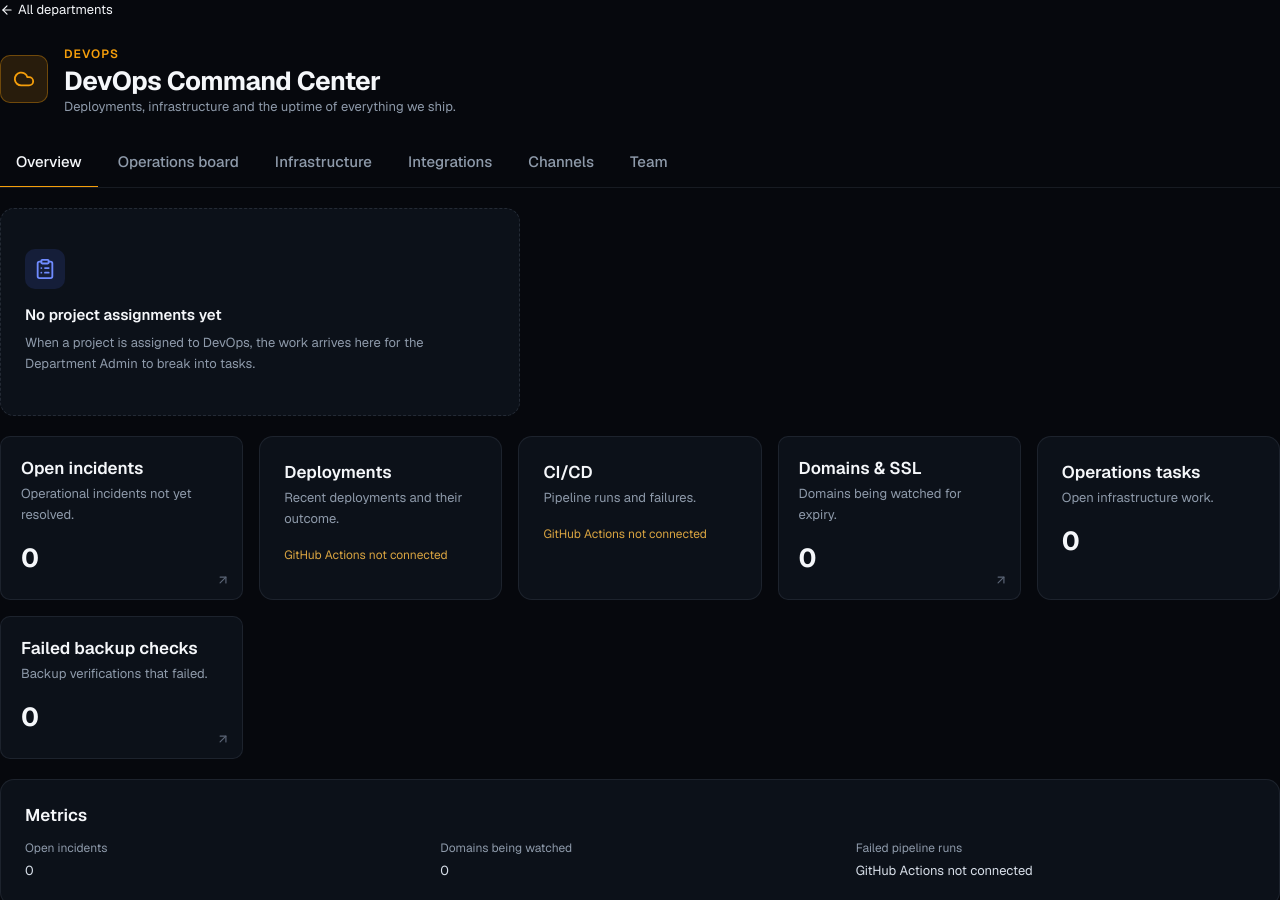
Test case: Department environment: new capabilities › says plainly when no channels exist yet instead of inventing them
Click the tab "Channels". click: (561, 163)
box: top-left (512, 138), bottom-right (610, 188)
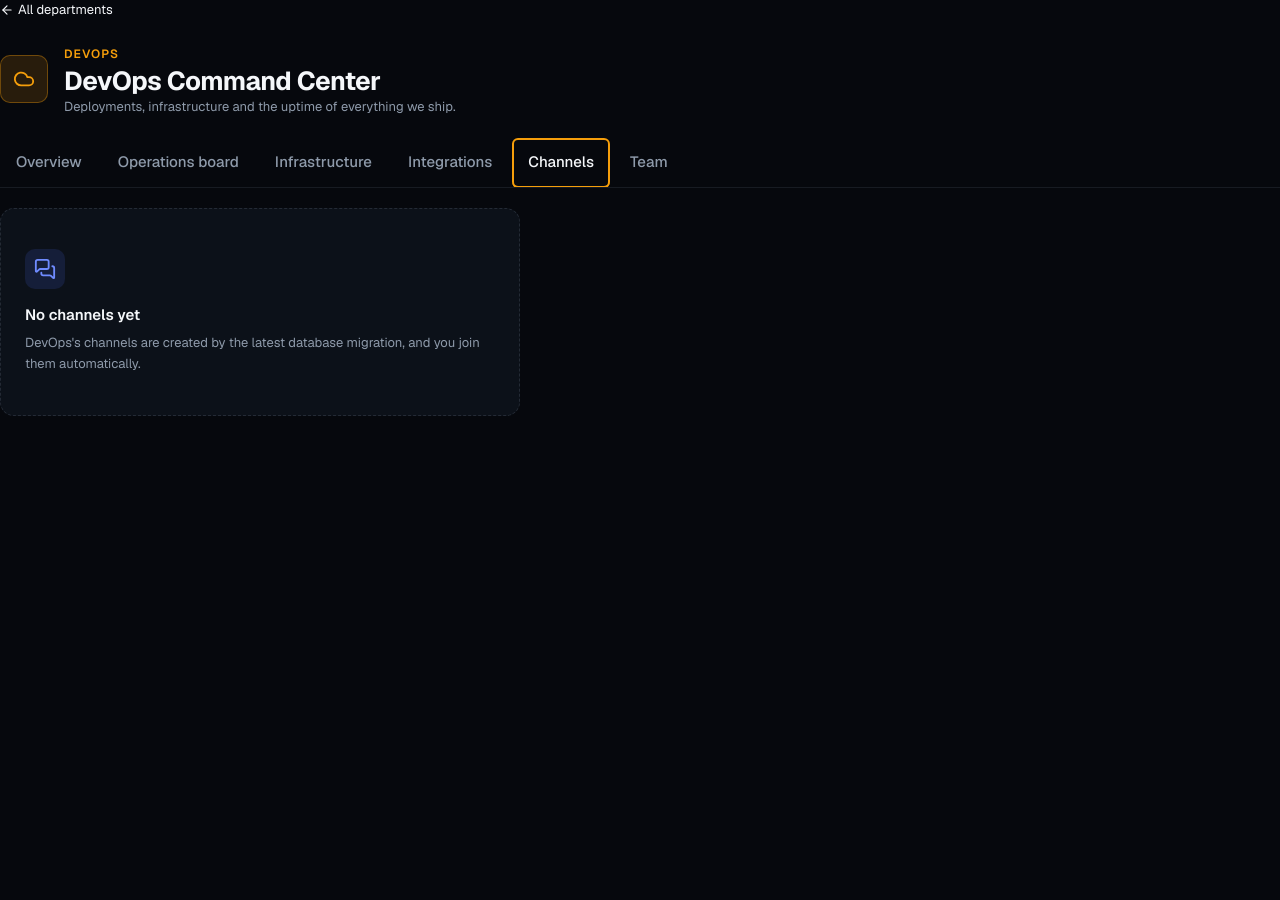
Result: the heading "No channels yet" is shown at top-left (25, 305), bottom-right (140, 326)
